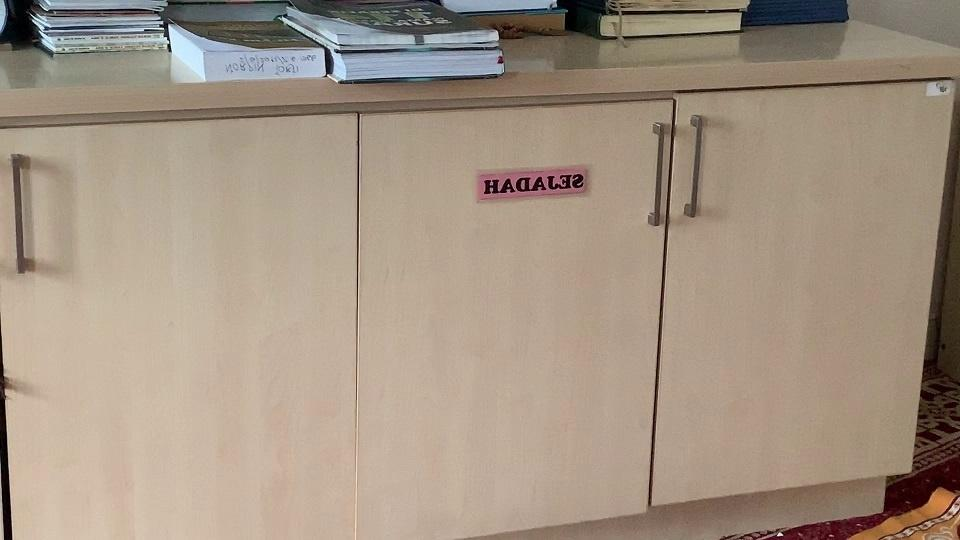cabinet_door: (0, 121, 355, 537), (362, 108, 657, 530), (660, 87, 926, 489)
handle: (7, 149, 37, 278), (680, 113, 709, 221), (645, 122, 670, 228)
